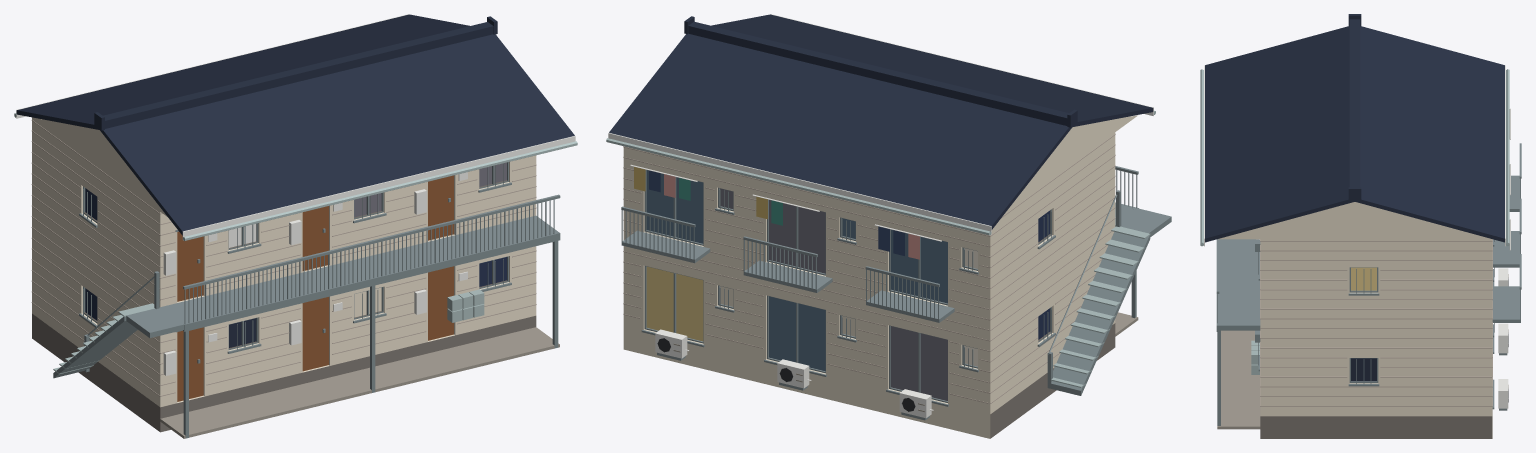
File: tb_wooden_apartment_2f_01.fbx
3 views of the same model, side by side, from view 1: azimuth 30°, elevation 25°; view 2: azimuth 150°, elevation 25°; view 3: azimuth 270°, elevation 25° (orthographic). The views are drawn at different scales.
Visible parts, largest first — view 1: tb_wooden_apartment_2f_01; view 2: tb_wooden_apartment_2f_01; view 3: tb_wooden_apartment_2f_01.
Part boxes in pixels (box(x1,y1,x2,y2)): tb_wooden_apartment_2f_01: box(14, 14, 577, 438); tb_wooden_apartment_2f_01: box(606, 14, 1171, 438); tb_wooden_apartment_2f_01: box(1200, 14, 1521, 438).
Size of what is drawn, in the model's own units: 12.35 by 7.86 by 9.
Materials: 2 (2 with a texture image).
